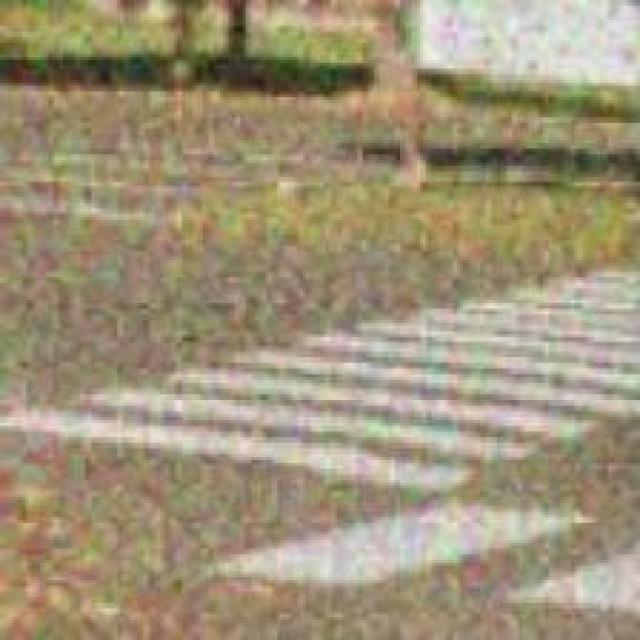walk-crossing: (6, 242, 640, 474), (241, 498, 640, 605)
